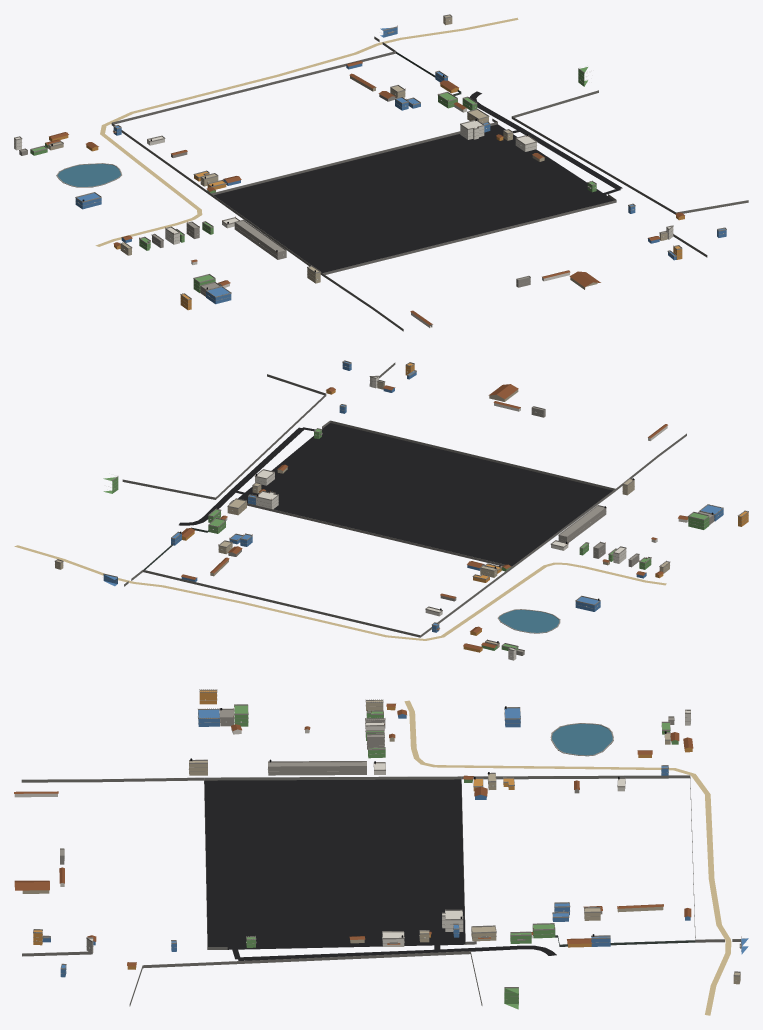
Rendered from zone_t6_-1.glb.
The picture shows the model from 3 angles, top to bottom: view 1: azimuth 30°, elevation 25°; view 2: azimuth 150°, elevation 25°; view 3: azimuth 270°, elevation 25°; orthographic projection. The views are drawn at different scales.
Visible parts, largest first — view 1: zone_parking_t6_-1, route_service_bitume_t6_-1, mur_wall_t6_-1-col, parapet_t6_-1, route_service_terre_t6_-1, bld_peinture_bleu_t6_-1-col, bld_peinture_blanc_t6_-1-col, toit_tole_t6_-1, bld_beton_t6_-1-col, bld_peinture_ecaillee_t6_-1-col, bld_peinture_vert_t6_-1-col, zone_eau_t6_-1 (+3 smaller); view 2: zone_parking_t6_-1, route_service_bitume_t6_-1, mur_wall_t6_-1-col, parapet_t6_-1, route_service_terre_t6_-1, bld_peinture_bleu_t6_-1-col, toit_tole_t6_-1, bld_peinture_blanc_t6_-1-col, bld_peinture_ecaillee_t6_-1-col, bld_beton_t6_-1-col, bld_peinture_vert_t6_-1-col, zone_eau_t6_-1 (+3 smaller); view 3: zone_parking_t6_-1, route_service_bitume_t6_-1, mur_wall_t6_-1-col, parapet_t6_-1, route_service_terre_t6_-1, bld_beton_t6_-1-col, toit_tole_t6_-1, bld_peinture_ecaillee_t6_-1-col, bld_peinture_bleu_t6_-1-col, bld_peinture_vert_t6_-1-col, zone_eau_t6_-1, bld_peinture_blanc_t6_-1-col (+3 smaller).
Boxes of the visible parts, x1,y1,x2,y2 form: zone_parking_t6_-1: [214, 124, 613, 272]; route_service_bitume_t6_-1: [225, 130, 620, 264]; mur_wall_t6_-1-col: [111, 36, 748, 331]; parapet_t6_-1: [14, 14, 726, 300]; route_service_terre_t6_-1: [95, 17, 518, 246]; bld_peinture_bleu_t6_-1-col: [75, 27, 726, 304]; bld_peinture_blanc_t6_-1-col: [14, 104, 673, 327]; toit_tole_t6_-1: [45, 61, 684, 325]; bld_beton_t6_-1-col: [19, 94, 530, 296]; bld_peinture_ecaillee_t6_-1-col: [48, 15, 667, 289]; bld_peinture_vert_t6_-1-col: [30, 67, 596, 292]; zone_eau_t6_-1: [57, 164, 120, 186]; zone_parking_t6_-1: [238, 423, 612, 565]; route_service_bitume_t6_-1: [233, 427, 587, 563]; mur_wall_t6_-1-col: [122, 362, 686, 637]; parapet_t6_-1: [54, 360, 748, 652]; route_service_terre_t6_-1: [14, 545, 666, 640]; bld_peinture_bleu_t6_-1-col: [103, 361, 723, 632]; toit_tole_t6_-1: [181, 384, 688, 649]; bld_peinture_blanc_t6_-1-col: [225, 377, 688, 660]; bld_peinture_ecaillee_t6_-1-col: [55, 381, 669, 648]; bld_beton_t6_-1-col: [228, 407, 714, 655]; bld_peinture_vert_t6_-1-col: [103, 429, 709, 650]; zone_eau_t6_-1: [499, 610, 559, 632]; zone_parking_t6_-1: [204, 779, 465, 949]; route_service_bitume_t6_-1: [216, 785, 458, 959]; mur_wall_t6_-1-col: [21, 775, 740, 1006]; parapet_t6_-1: [33, 689, 745, 992]; route_service_terre_t6_-1: [404, 700, 731, 1015]; bld_beton_t6_-1-col: [60, 710, 674, 914]; toit_tole_t6_-1: [14, 703, 693, 966]; bld_peinture_ecaillee_t6_-1-col: [22, 700, 740, 984]; bld_peinture_bleu_t6_-1-col: [42, 708, 748, 977]; bld_peinture_vert_t6_-1-col: [234, 705, 678, 1009]; zone_eau_t6_-1: [552, 724, 612, 755]; bld_peinture_blanc_t6_-1-col: [14, 710, 690, 953].
Bounding box in the file's own units: 517 × 12.9 × 509.
